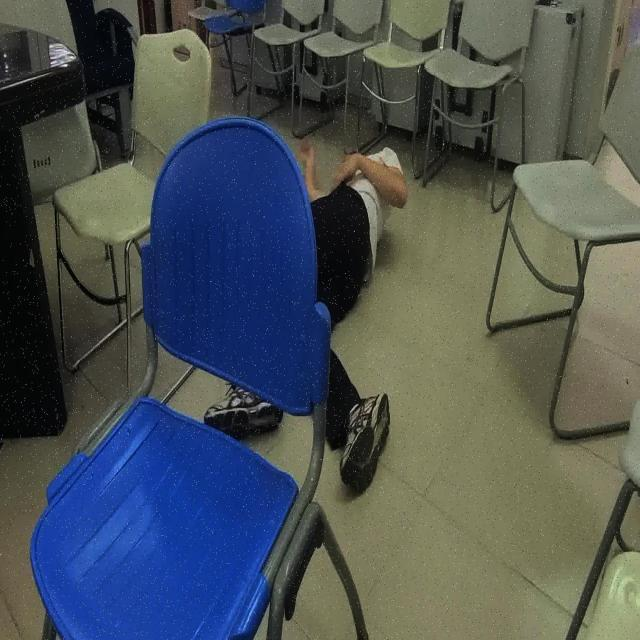fall: (202, 140, 408, 477)
